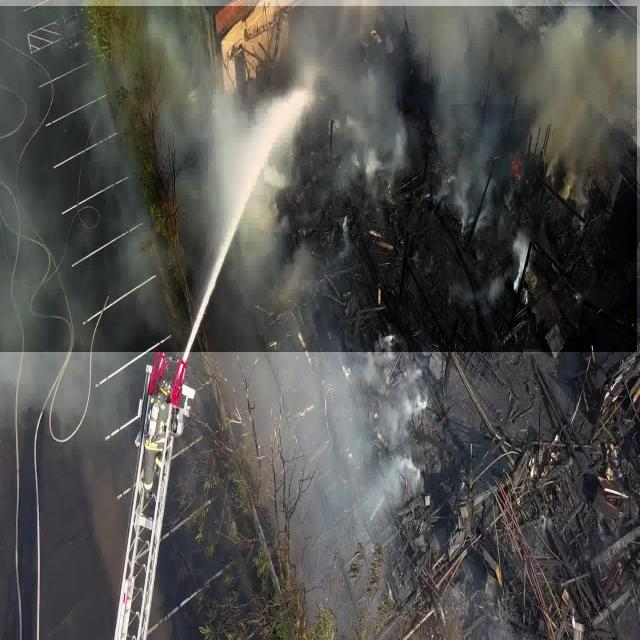Smoke: (0, 6, 637, 352)
